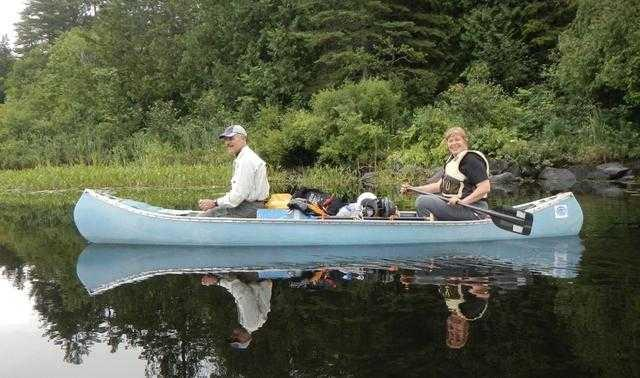kayak: (67, 181, 588, 250)
